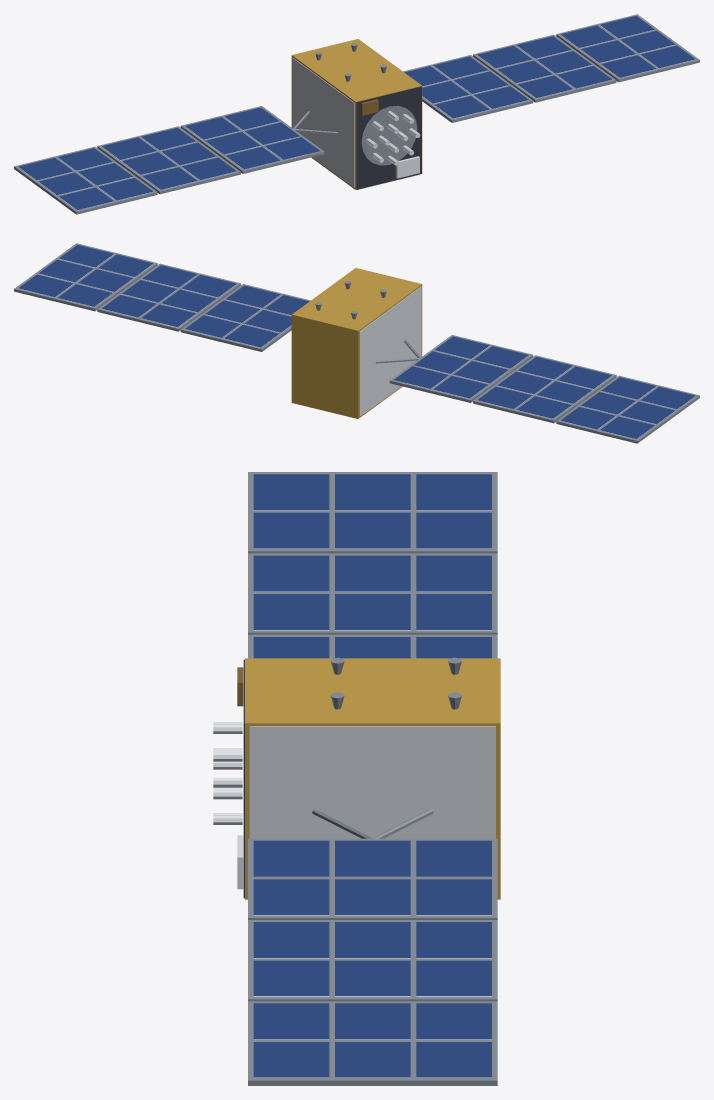
File: beidou-3-cast.glb
3 renders of one model, top to bottom at view 1: azimuth 30°, elevation 25°; view 2: azimuth 150°, elevation 25°; view 3: azimuth 270°, elevation 25°, orthographic. The views are drawn at different scales.
Parts seen in each view (by area): view 1: solar-panel, body, foil; view 2: solar-panel, body, foil; view 3: solar-panel, body, foil.
Part boxes in pixels (x1,y1,x2,y2): solar-panel: (18, 16, 695, 210); body: (14, 14, 699, 214); foil: (291, 39, 422, 189); solar-panel: (18, 245, 695, 439); body: (14, 243, 699, 443); foil: (291, 268, 422, 418); solar-panel: (253, 474, 491, 1077); body: (213, 472, 497, 1085); foil: (237, 658, 500, 899).
Bounding box in the file's own units: 12.27 × 1.79 × 2.45.
